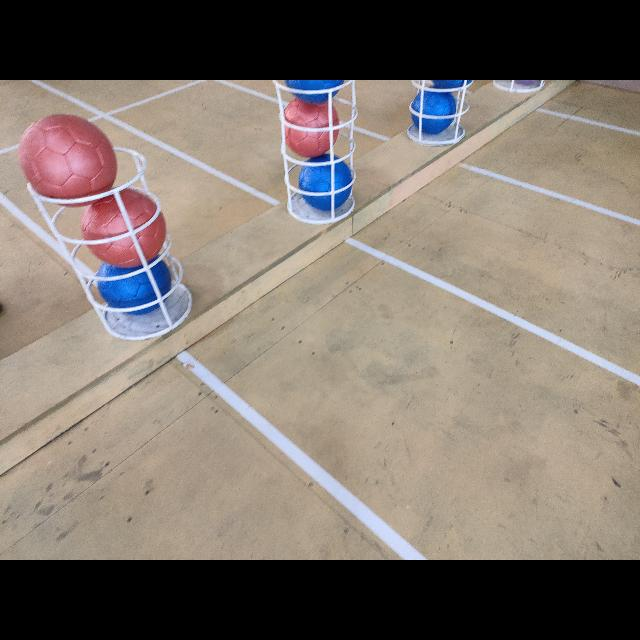B: (96, 262, 172, 314), (298, 160, 354, 212), (409, 87, 456, 135), (286, 80, 344, 100)
R: (17, 112, 118, 204), (84, 192, 166, 266), (283, 99, 341, 157)
